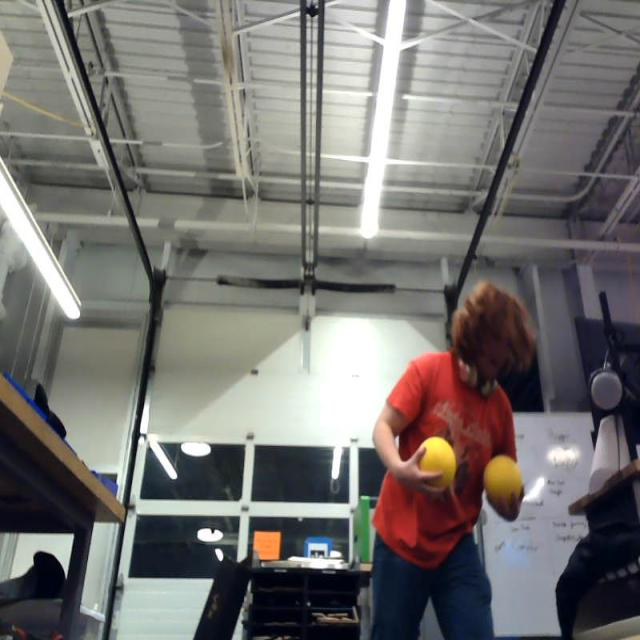Fuel: (420, 437, 456, 490), (484, 456, 522, 504)
